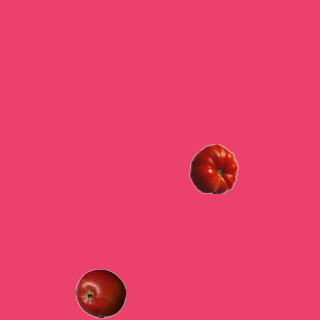Apple Braeburn: (75, 268, 125, 318)
Tomato 3: (188, 143, 238, 193)
